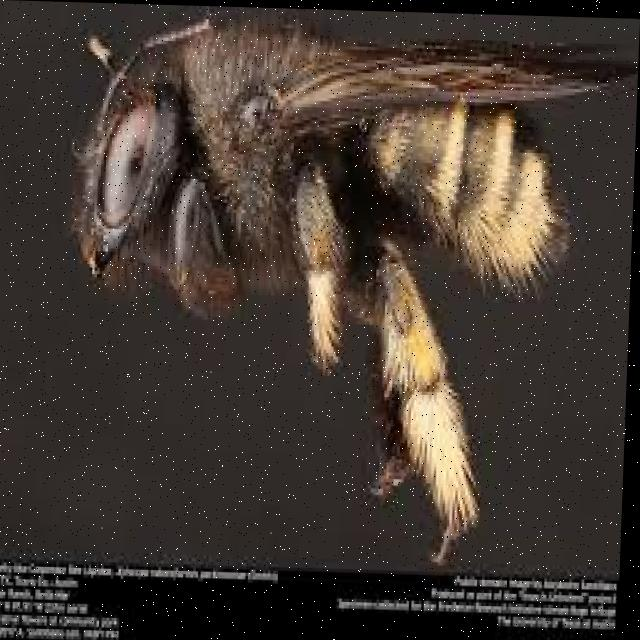Lasioglossum: (44, 11, 612, 544)
